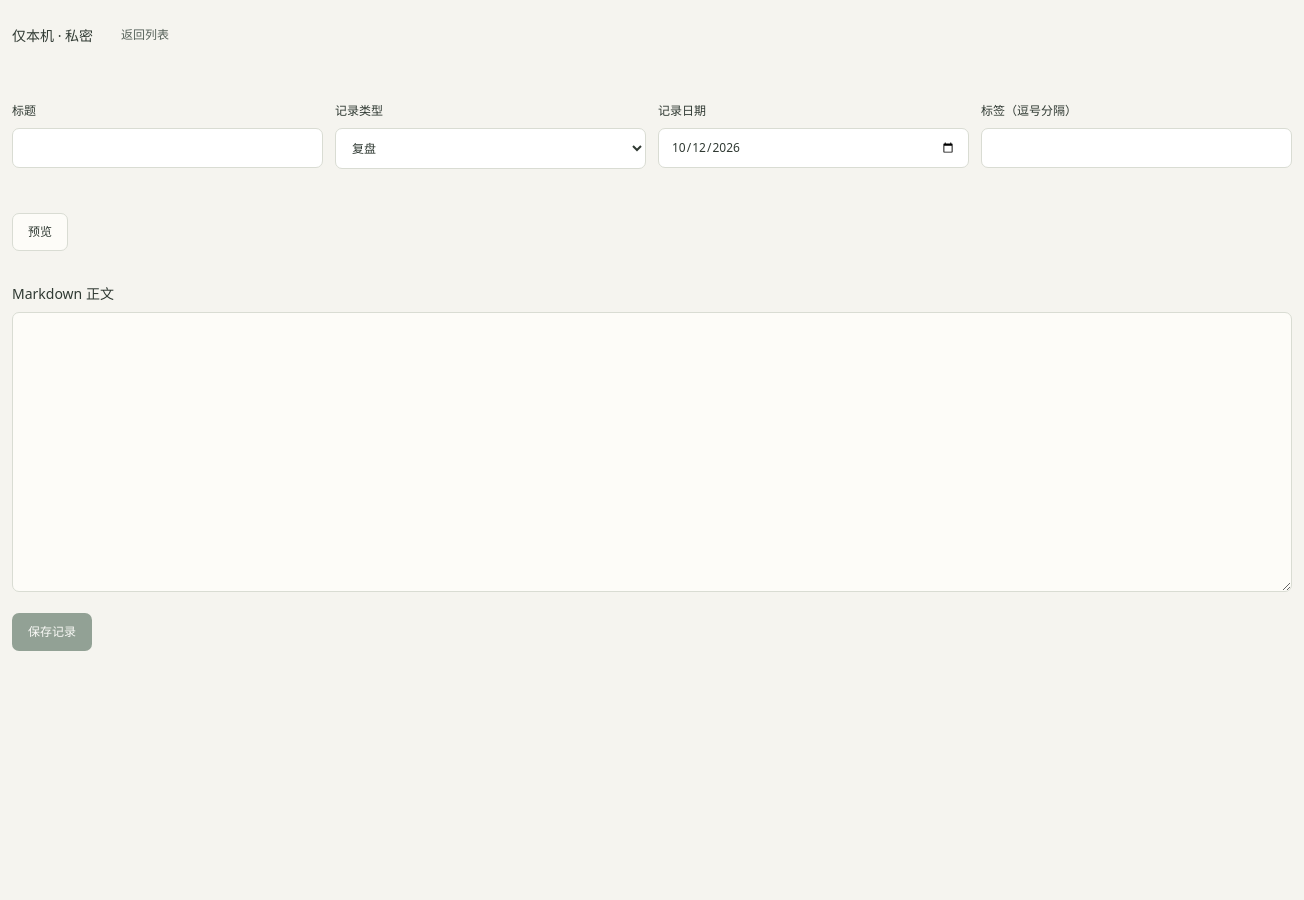
Scenario: serializes a save and preserves newer edits until their own acknowledgement
Type "第一版" into the text box labelled "Markdown 正文".
click(652, 452); type("第一版")  # box [12,312,1292,592]
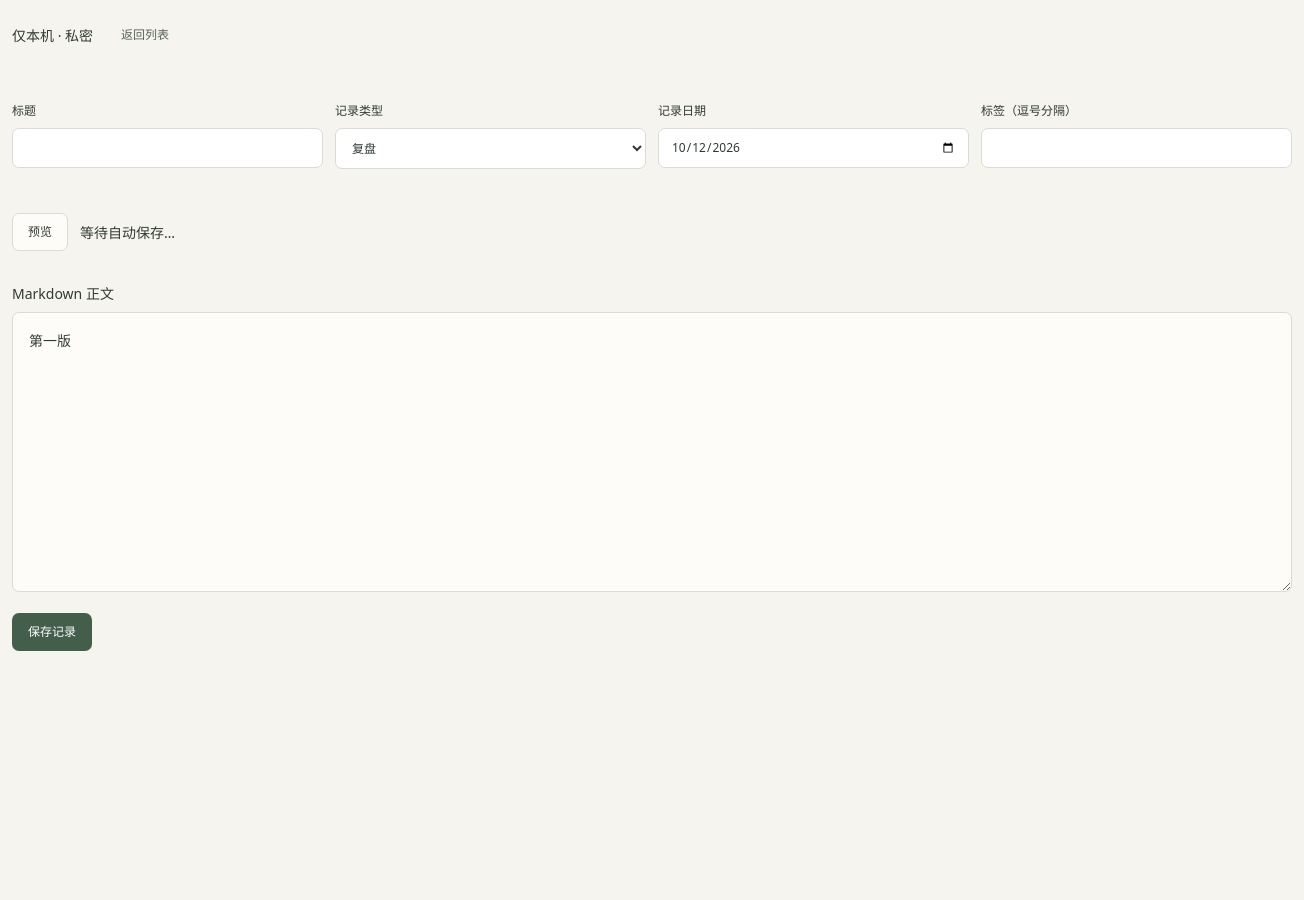
Click the button "保存记录".
click(52, 632)  # box [12,613,92,651]
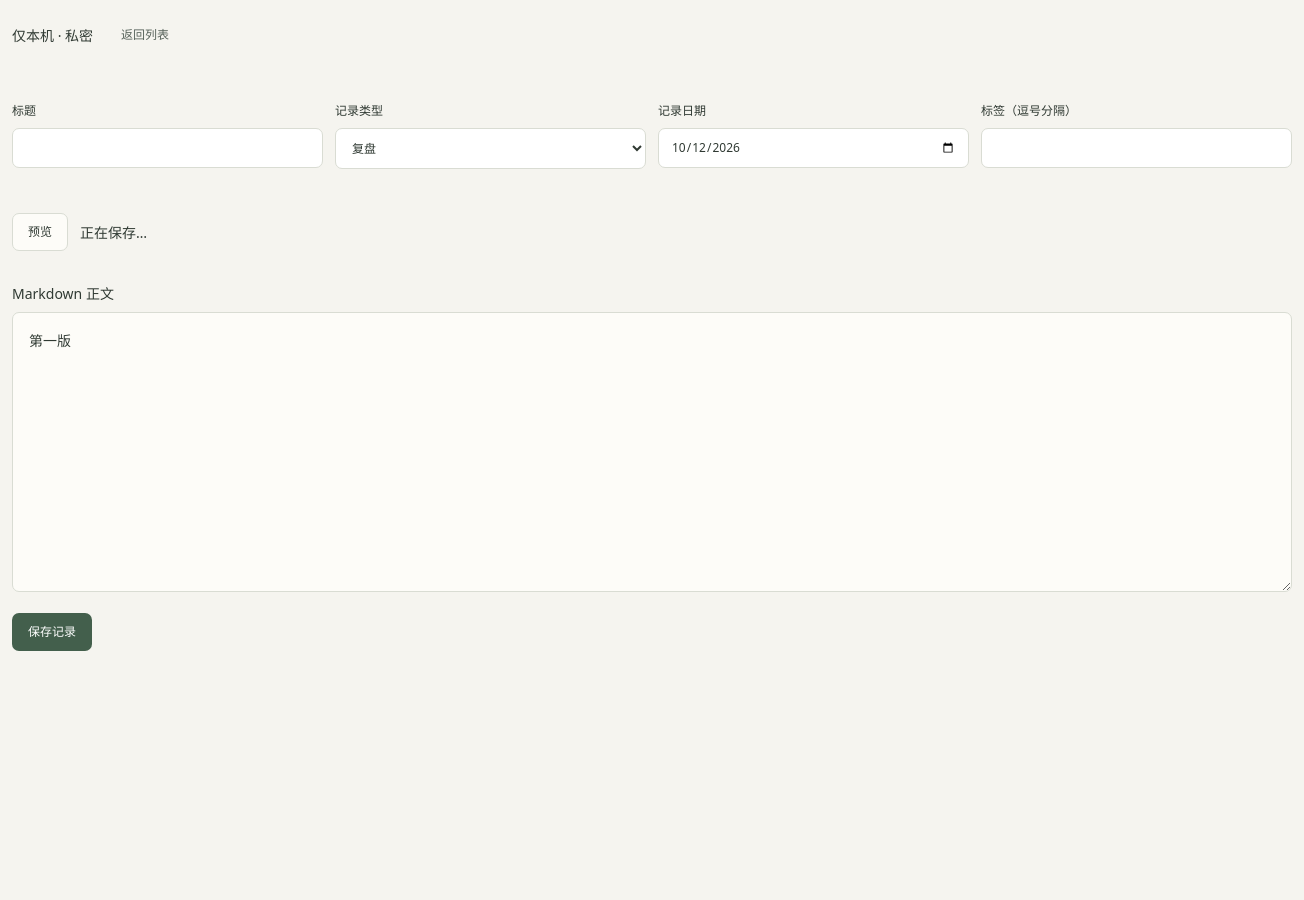
Expected: the message shows "正在保存", [80,222,147,242]
Replace the text in the text box labelled "Markdown 正文" with "保存过程中继续写" at point(652, 452), box [12,312,1292,592]
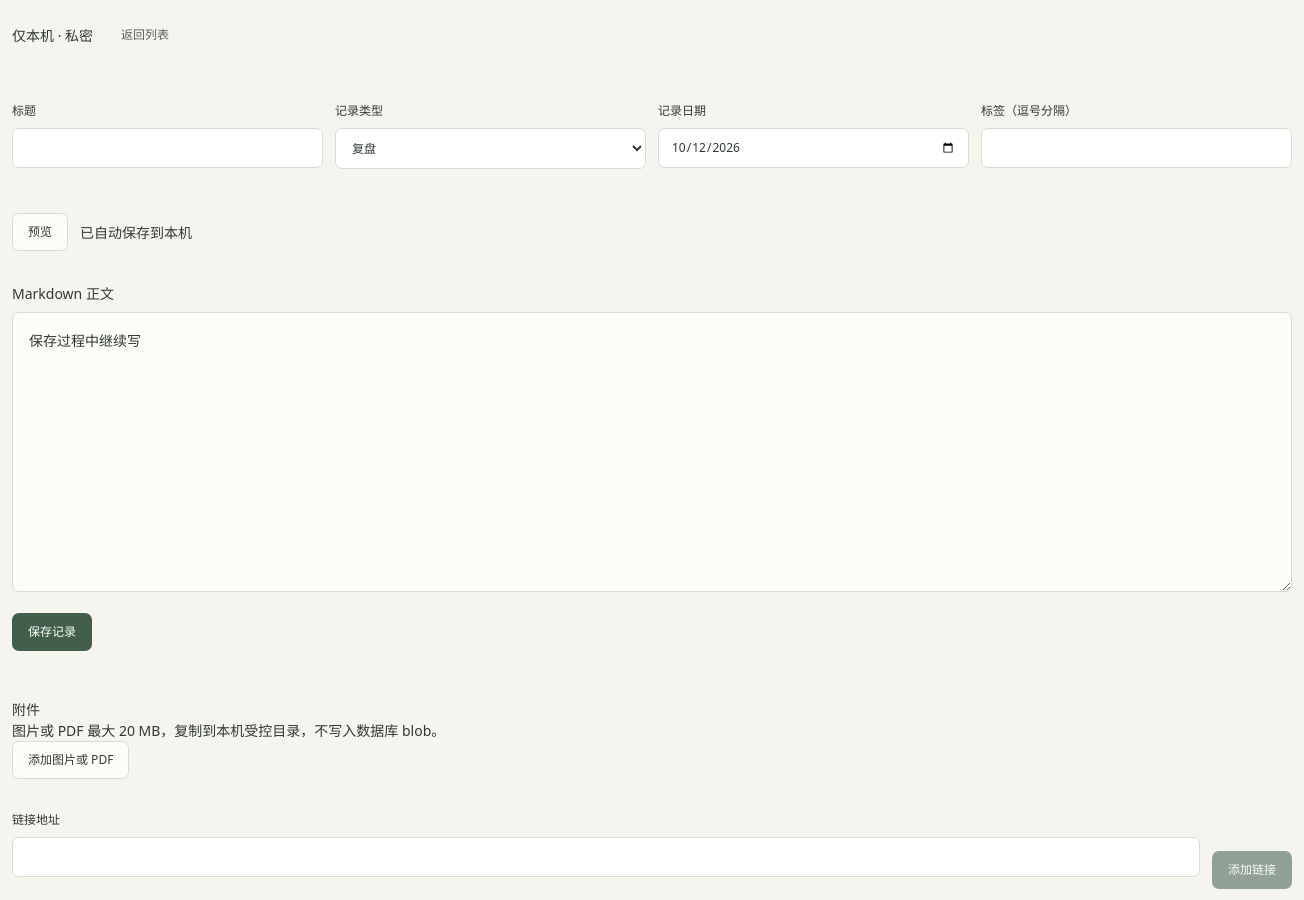
Expected: the message reads "已自动保存到本机", [80,222,192,242]
